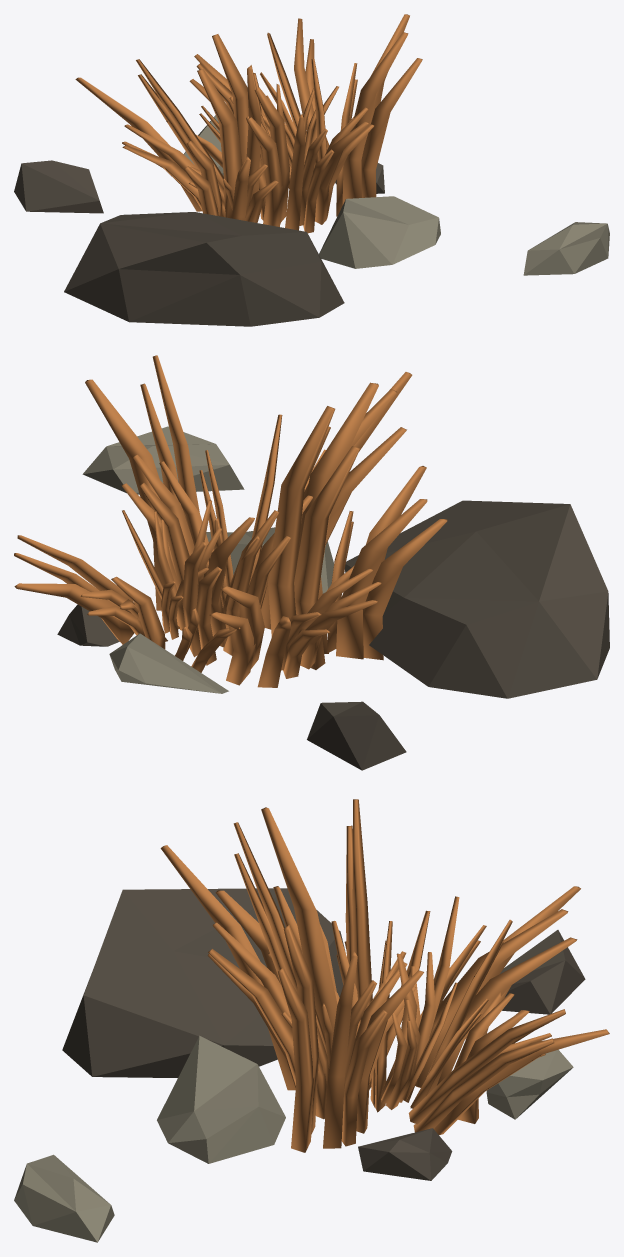
The model's file is grass_2.gltf.
3 views of the same model, one above another, from view 1: azimuth 30°, elevation 25°; view 2: azimuth 150°, elevation 25°; view 3: azimuth 270°, elevation 25° (orthographic). The views are drawn at different scales.
Parts seen in each view (by area): view 1: Grass 2; view 2: Grass 2; view 3: Grass 2.
Boxes of the visible parts, box(x1,y1,x2,y2) form: Grass 2: box(14, 14, 609, 326); Grass 2: box(14, 355, 609, 770); Grass 2: box(14, 799, 609, 1242).
Size of what is drawn, in the model's own units: 2.35 by 0.9712 by 1.96.
1 material, 1 textured.
